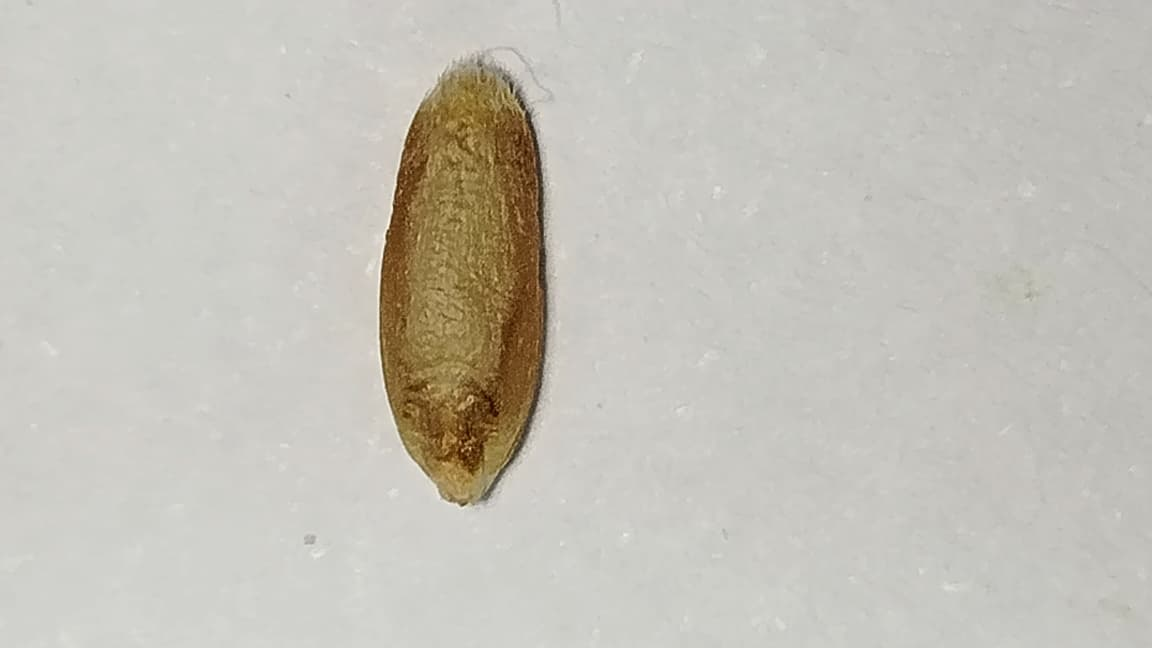healthy: (382, 61, 541, 504)
